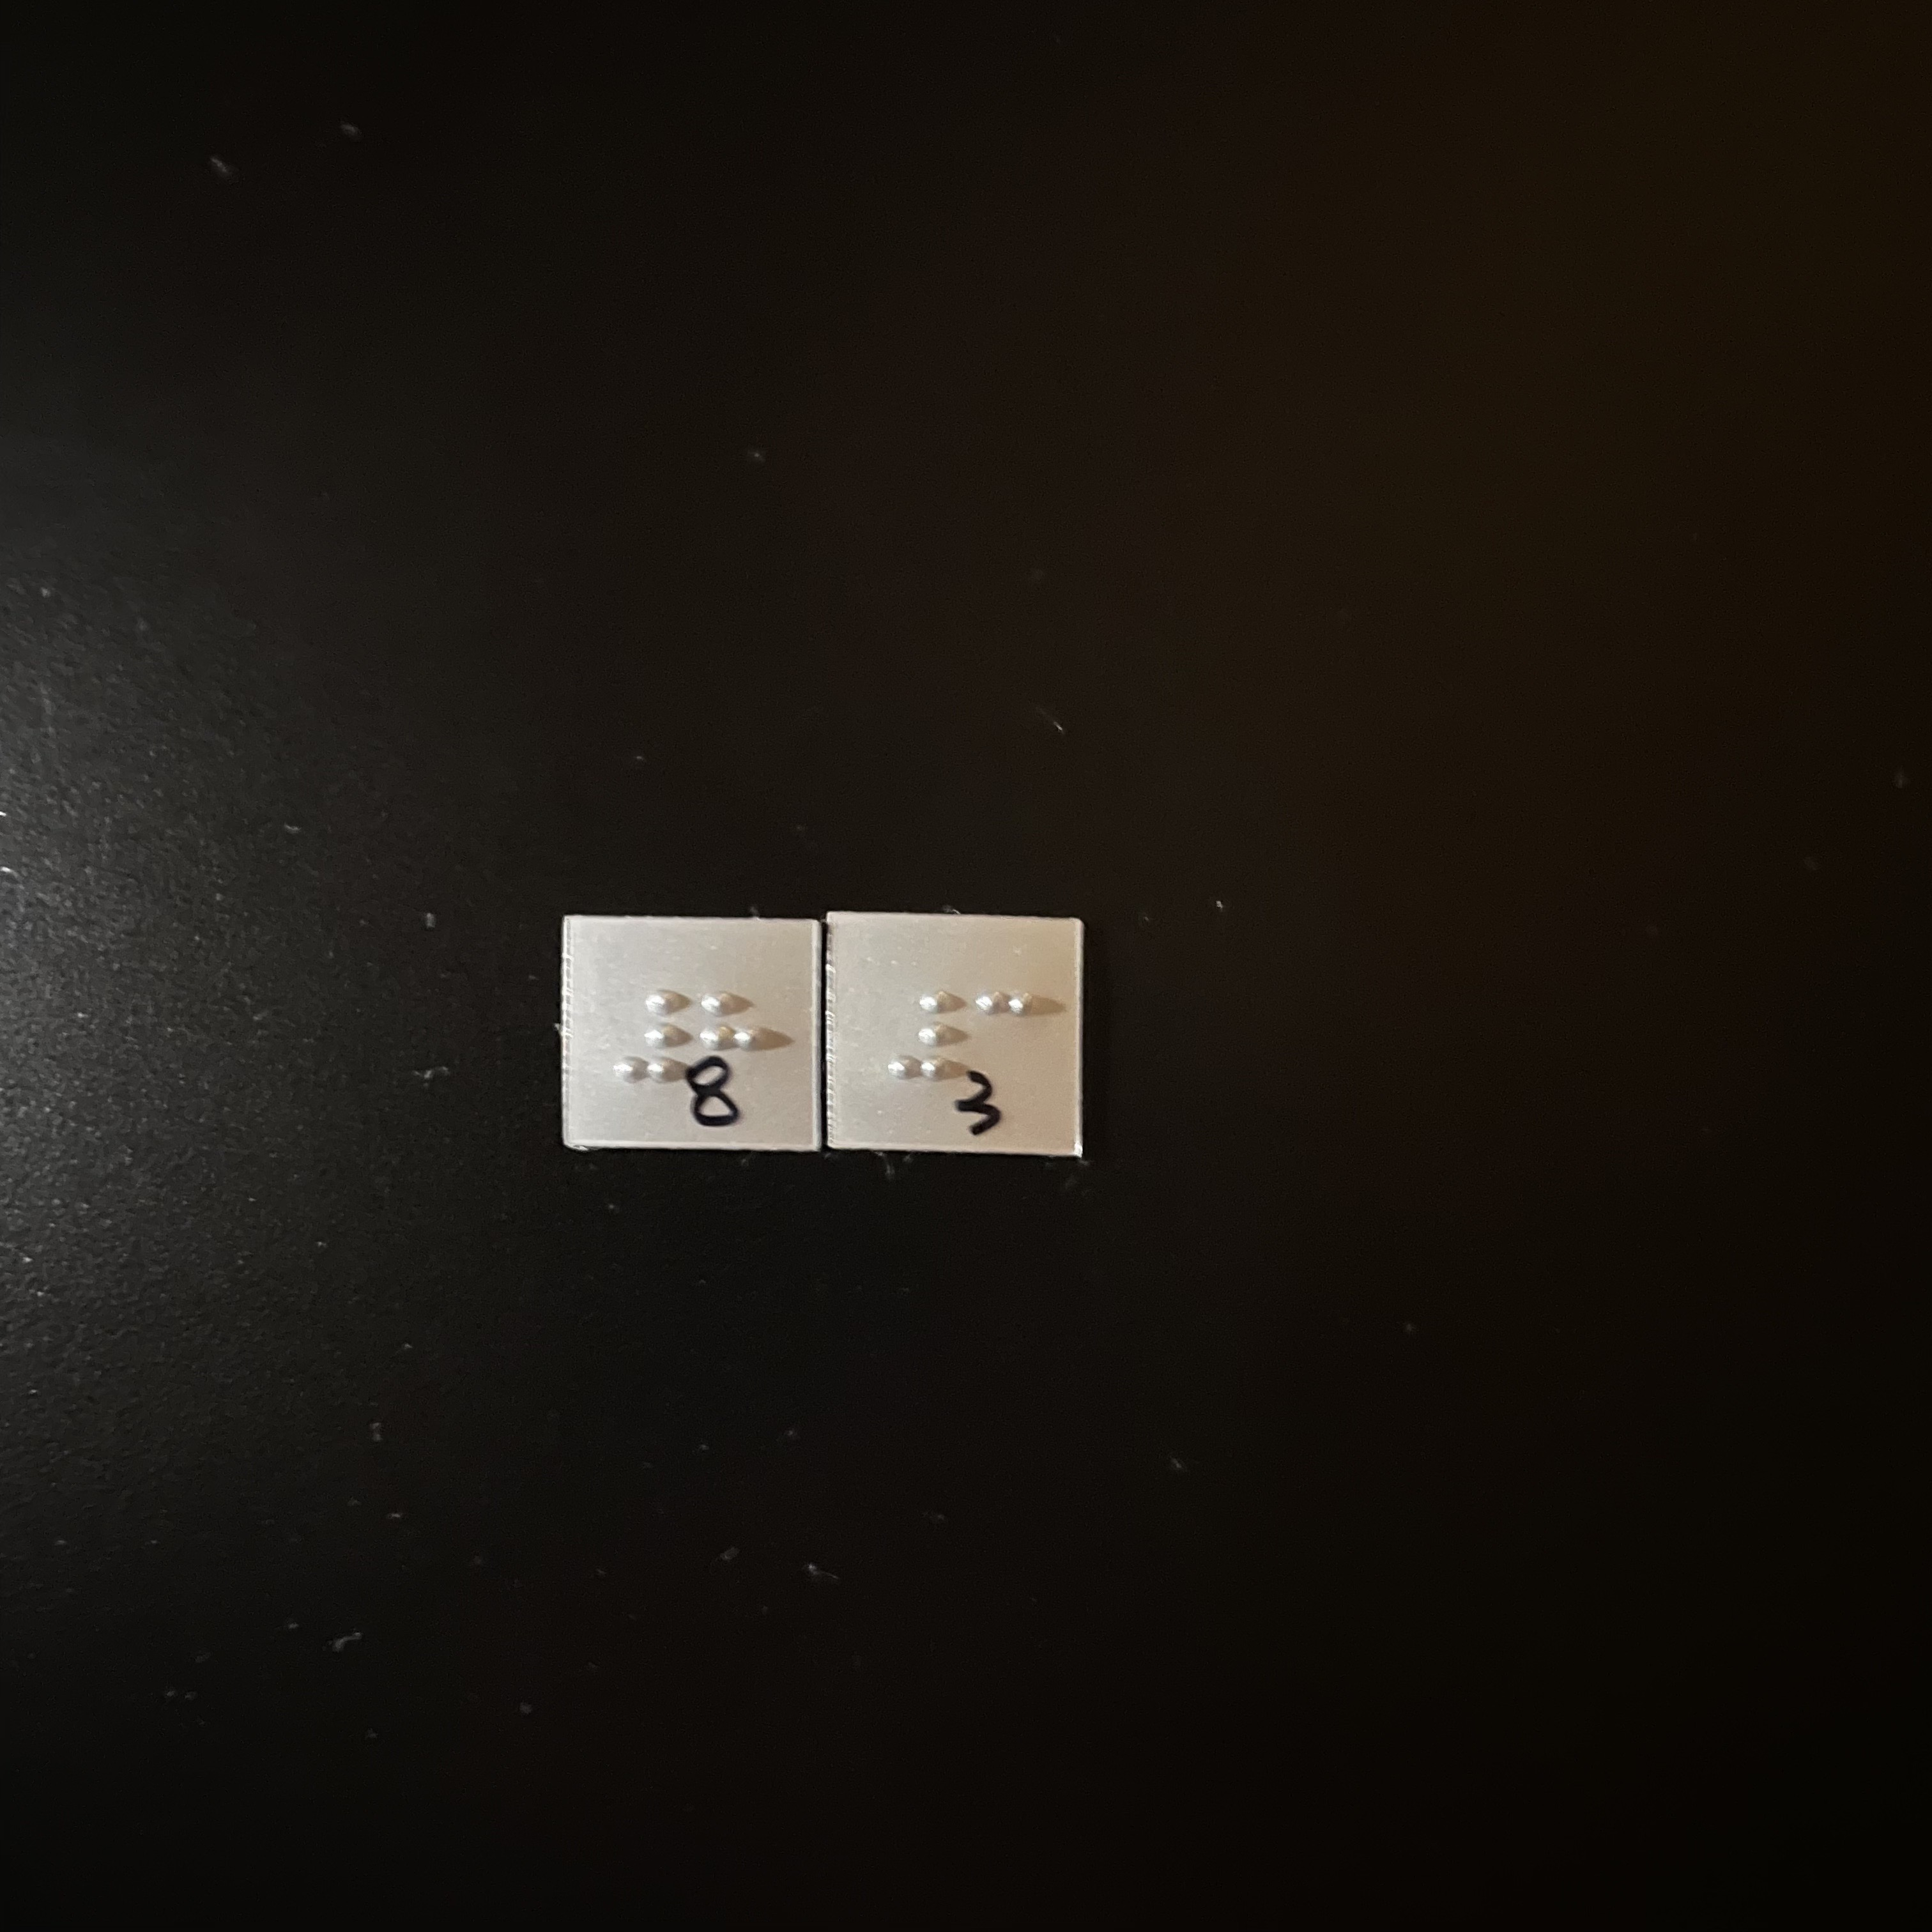#: (884, 985, 970, 1088), (611, 983, 690, 1092)
c: (972, 987, 1055, 1092)
h: (694, 987, 778, 1088)
